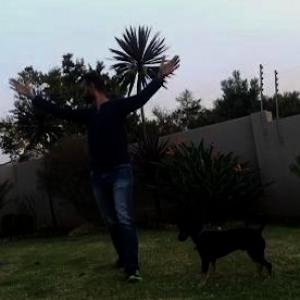takeoff: (18, 55, 180, 259)
